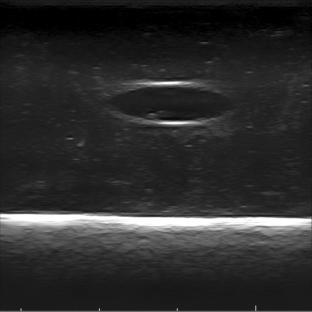vessel: (111, 81, 235, 126)
